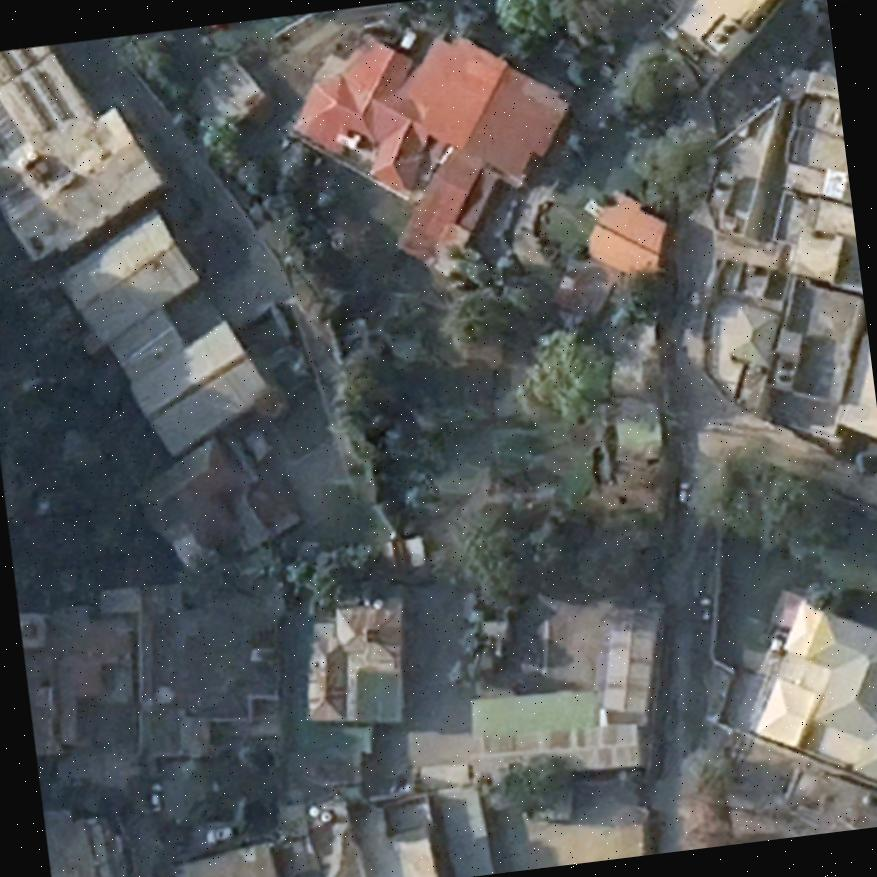Solarpanel: (15, 78, 55, 132), (27, 71, 69, 121), (0, 98, 26, 159), (0, 53, 21, 76), (16, 50, 38, 67)
